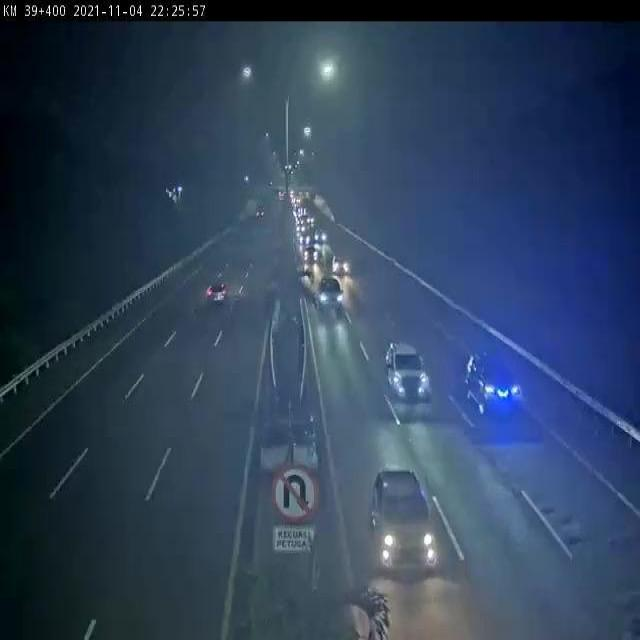car: (369, 468, 438, 576), (469, 349, 525, 423), (390, 343, 427, 400), (317, 272, 344, 311), (208, 281, 228, 304), (332, 256, 350, 277), (304, 248, 317, 263), (300, 233, 312, 246), (315, 230, 327, 242)
